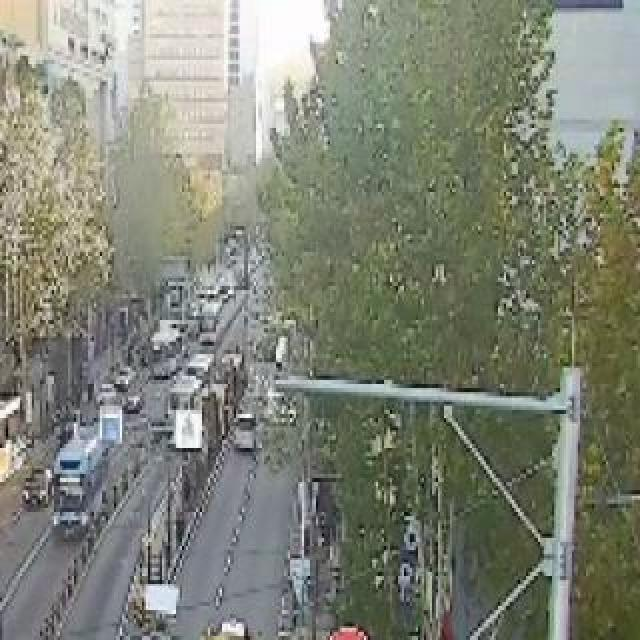truck: (48, 422, 110, 542), (0, 580, 4, 640)
